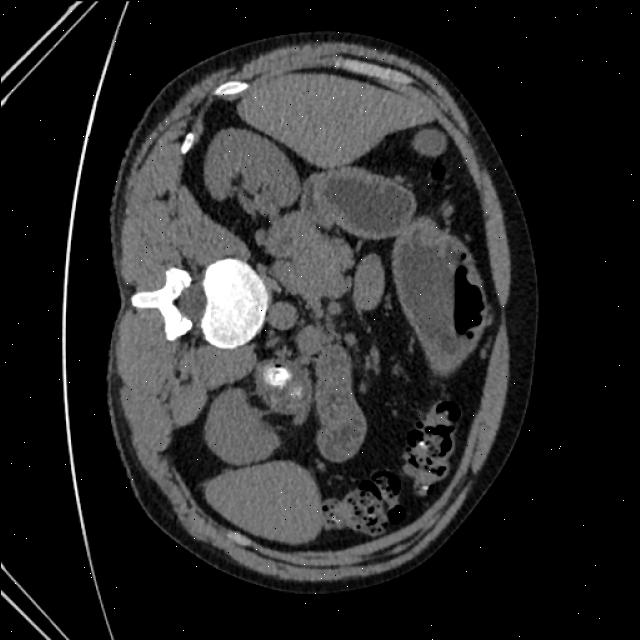kidneystone: (261, 362, 290, 389)
